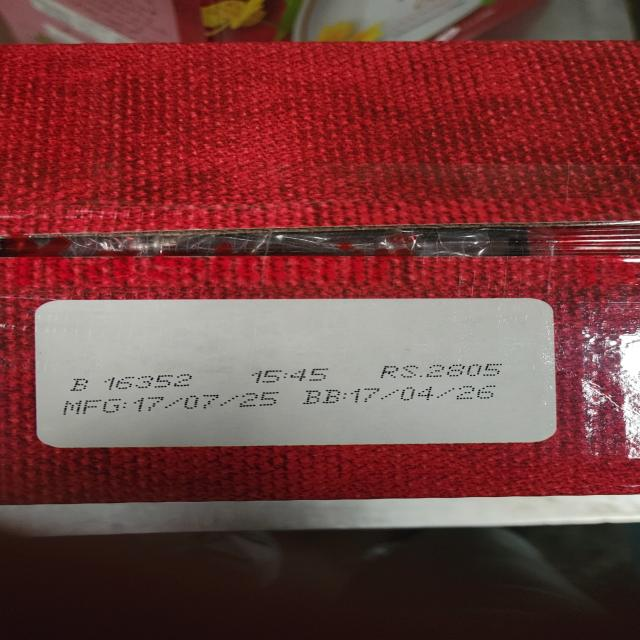BB: (304, 385, 502, 405)
Batch: (69, 375, 196, 391)
MFG: (69, 392, 280, 412)
RS: (378, 363, 506, 378)
TimeStamp: (250, 368, 332, 383)
